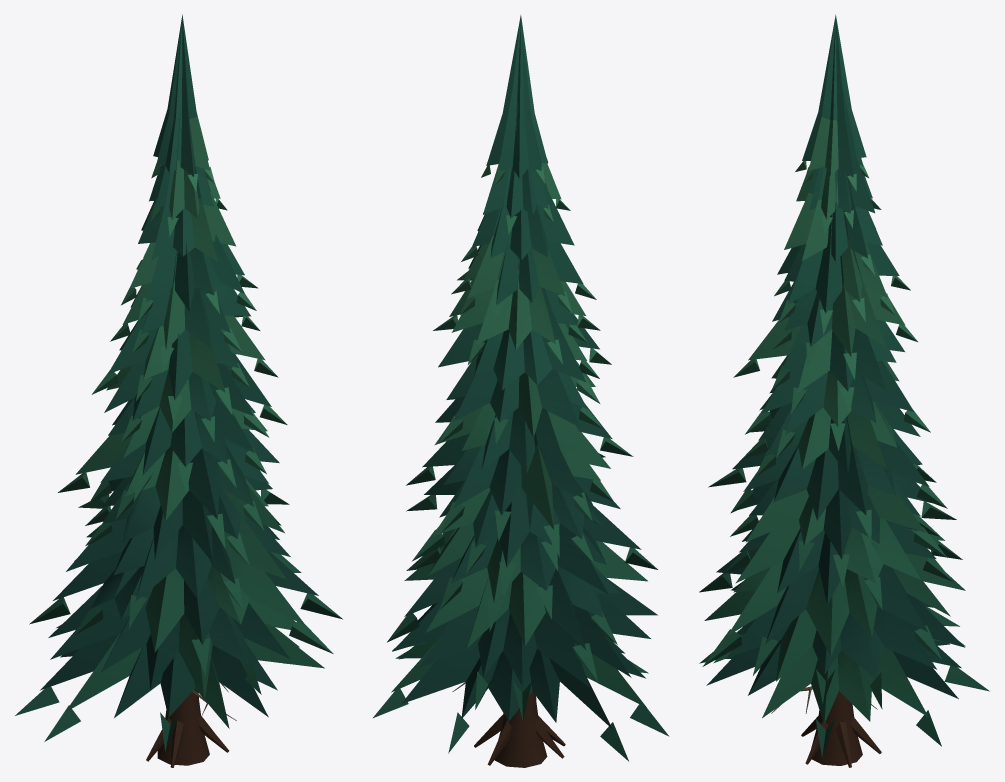
File: Spruce_B.fbx
The picture shows the model from 3 angles, left to right: view 1: azimuth 30°, elevation 25°; view 2: azimuth 150°, elevation 25°; view 3: azimuth 270°, elevation 25°; orthographic projection.
Parts seen in each view (by area): view 1: Spruce_B_LOD0; view 2: Spruce_B_LOD0; view 3: Spruce_B_LOD0.
Boxes of the visible parts, <box> form: Spruce_B_LOD0: <box>15,14,342,767</box>; Spruce_B_LOD0: <box>373,15,669,767</box>; Spruce_B_LOD0: <box>699,14,989,767</box>.
Size of what is drawn, in the model's own units: 7.2 by 18.5 by 6.61.
Materials: 1 (1 with a texture image).
